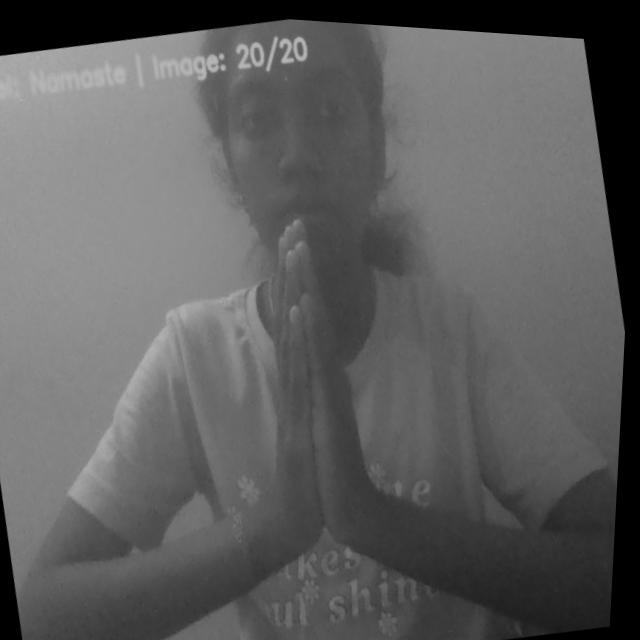Namaste: (229, 193, 404, 558)
